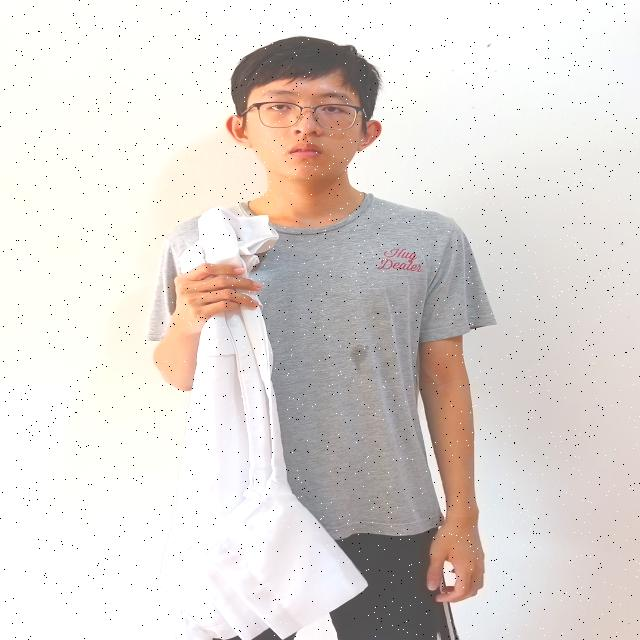person_without_labcoat: (126, 38, 495, 640)
